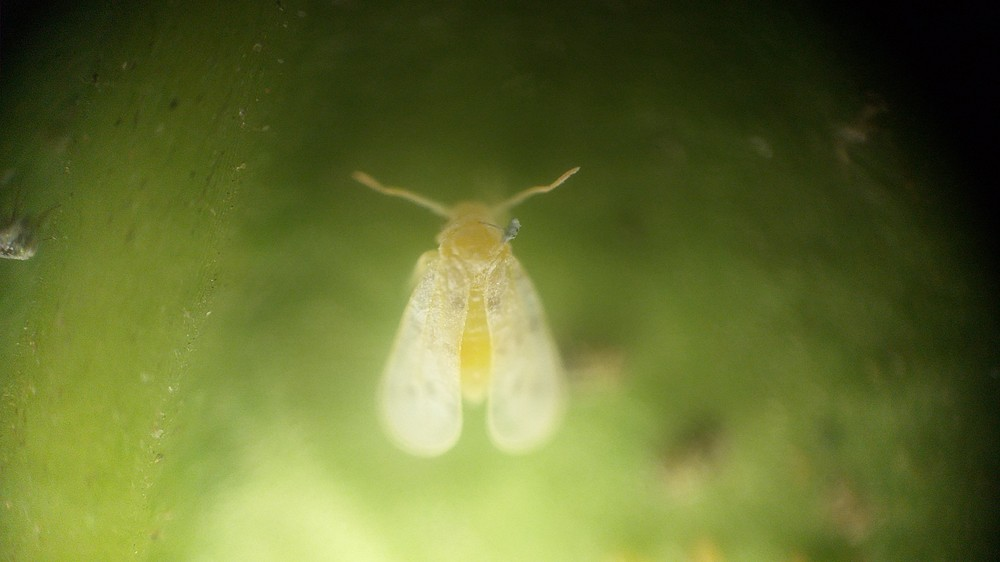Mosca Blanca: (316, 142, 611, 482)
